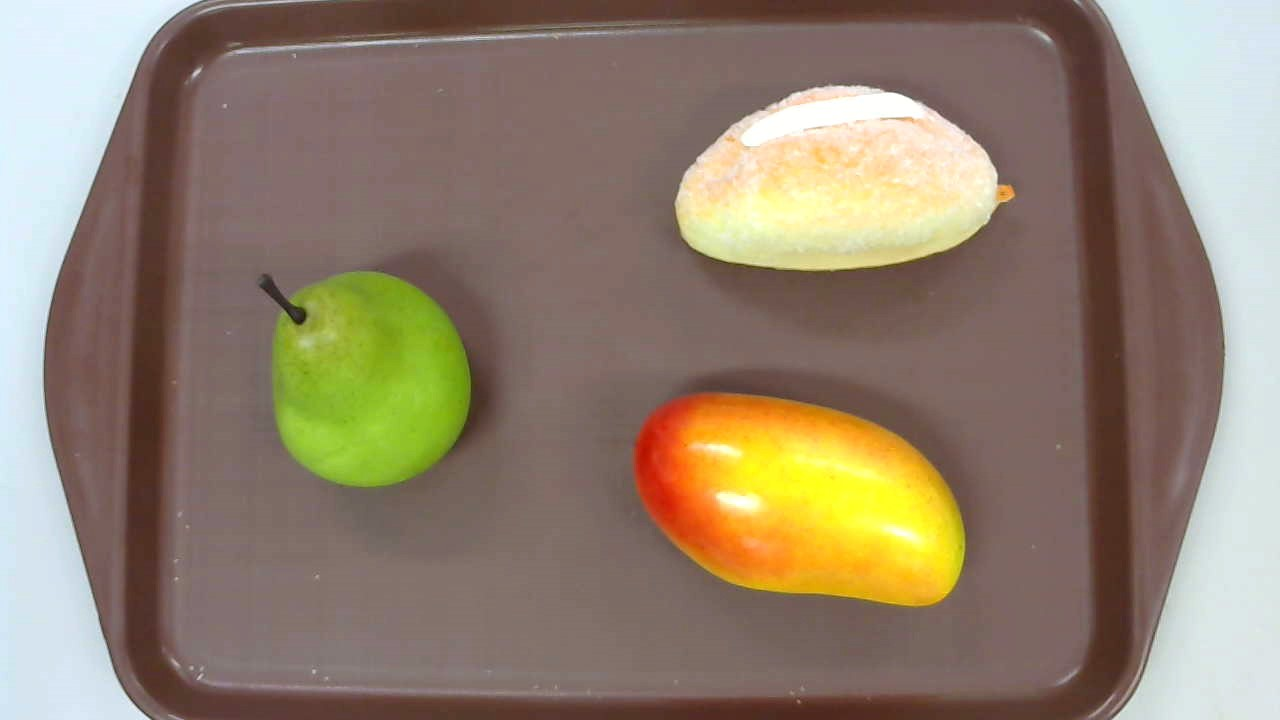coconut: (672, 84, 1014, 269)
green pear: (257, 272, 471, 489)
red mango: (632, 391, 966, 608)
